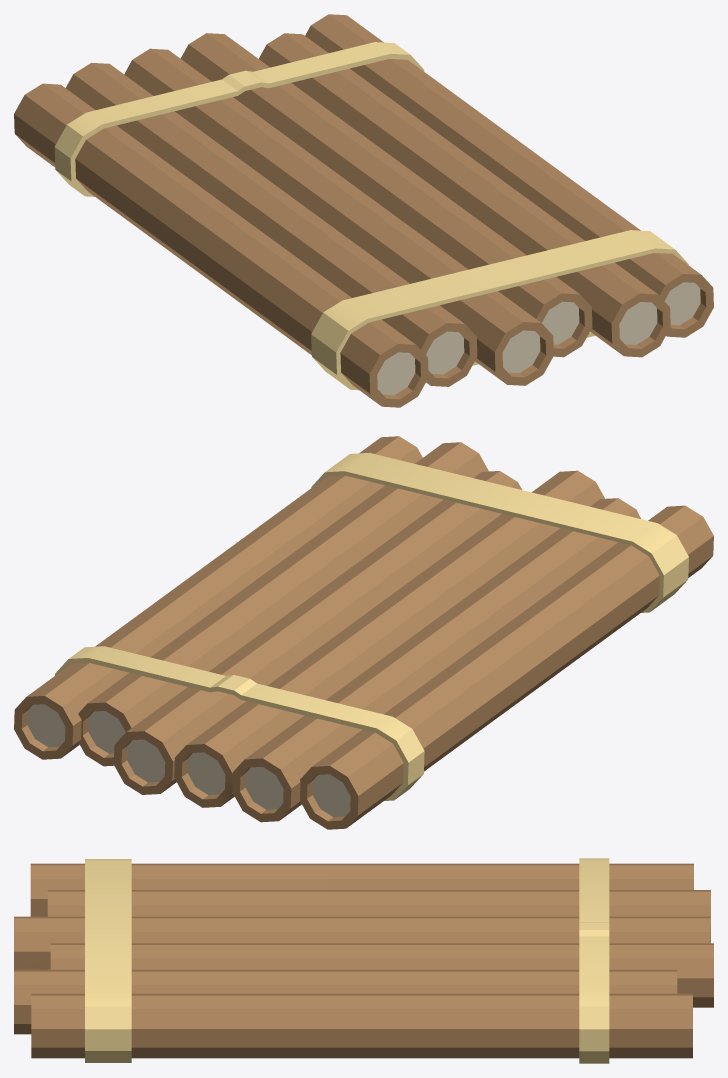
Rendered from NagaTratwa.fbx.
The picture shows the model from 3 angles, top to bottom: view 1: azimuth 30°, elevation 25°; view 2: azimuth 150°, elevation 25°; view 3: azimuth 270°, elevation 25°; orthographic projection. The views are drawn at different scales.
Parts seen in each view (by area): view 1: Tratwa; view 2: Tratwa; view 3: Tratwa.
Boxes of the visible parts, box(x1,y1,x2,y2) form: Tratwa: box(14, 14, 713, 407); Tratwa: box(14, 436, 713, 829); Tratwa: box(14, 858, 713, 1063).
Size of the model in its own units: 115 by 23.84 by 211.
